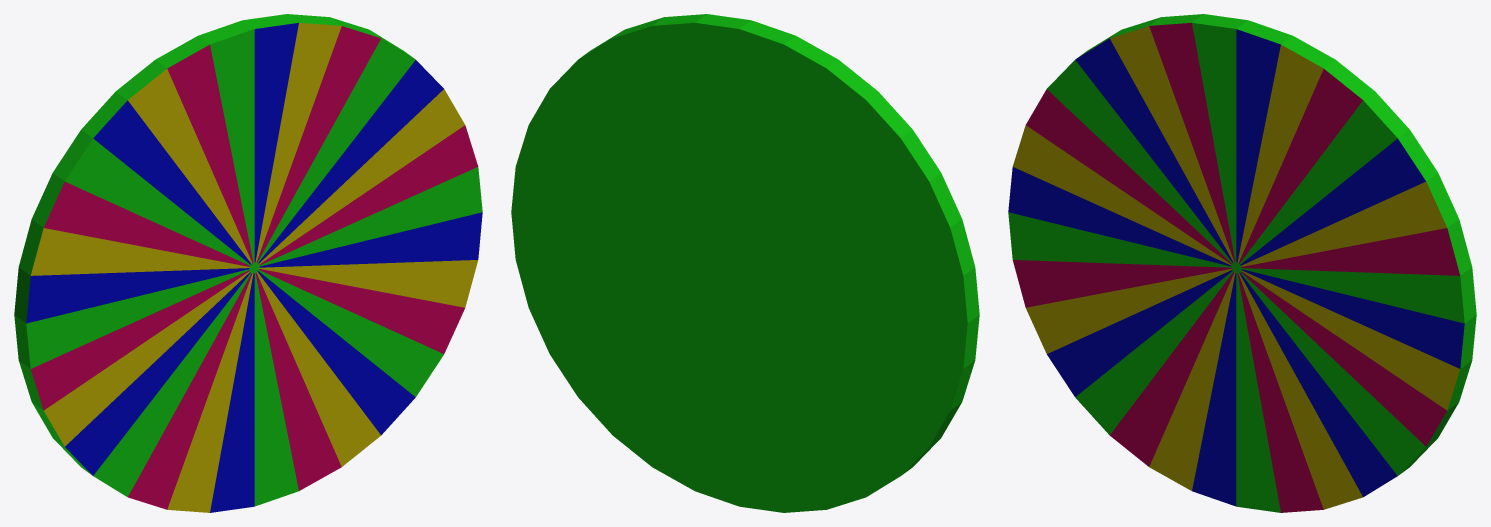
Rendered from spinner.gltf.
3 renders of one model, left to right at view 1: azimuth 30°, elevation 25°; view 2: azimuth 150°, elevation 25°; view 3: azimuth 330°, elevation 25°, orthographic.
Parts seen in each view (by area): view 1: Cylinder; view 2: Cylinder; view 3: Cylinder.
Part boxes in pixels (left/top/right/bottom): Cylinder: left=14, top=14, right=482, bottom=512; Cylinder: left=511, top=14, right=979, bottom=512; Cylinder: left=1008, top=14, right=1476, bottom=512.
Size of the model in its own units: 4 by 4 by 0.1824.
